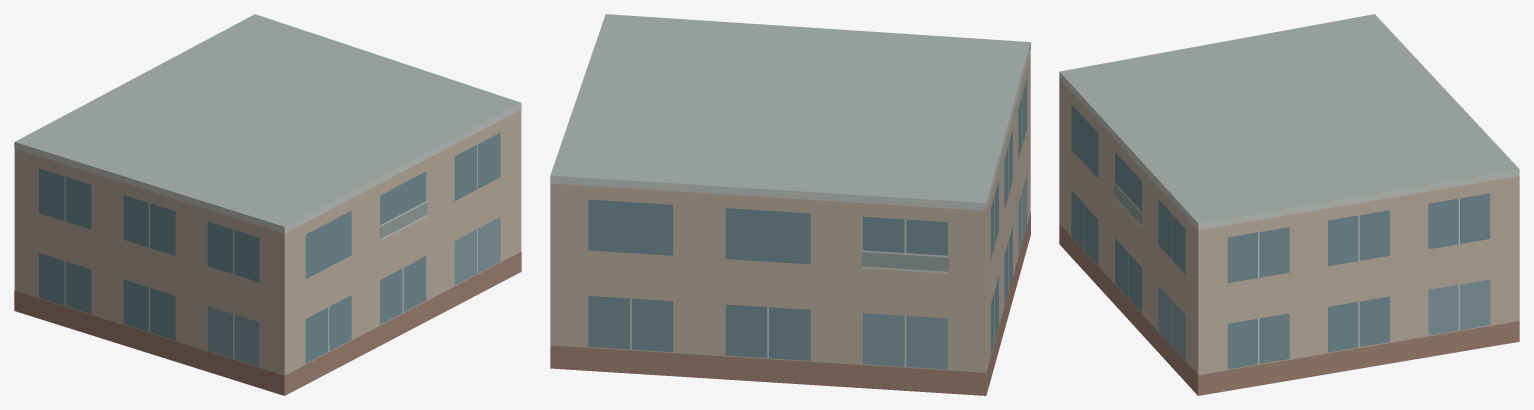
Rendered from survey-upis-32931833.glb.
3 views of the same model, side by side, from view 1: azimuth 30°, elevation 25°; view 2: azimuth 150°, elevation 25°; view 3: azimuth 270°, elevation 25° (orthographic). The views are drawn at different scales.
Parts seen in each view (by area): view 1: survey-upis-32931833.tmp; view 2: survey-upis-32931833.tmp; view 3: survey-upis-32931833.tmp.
Boxes of the visible parts, x1,y1,x2,y2 form: survey-upis-32931833.tmp: (14,14,521,395); survey-upis-32931833.tmp: (550,14,1030,395); survey-upis-32931833.tmp: (1059,14,1519,395).
Bounding box in the file's own units: 15.88 × 6.1 × 14.76.
